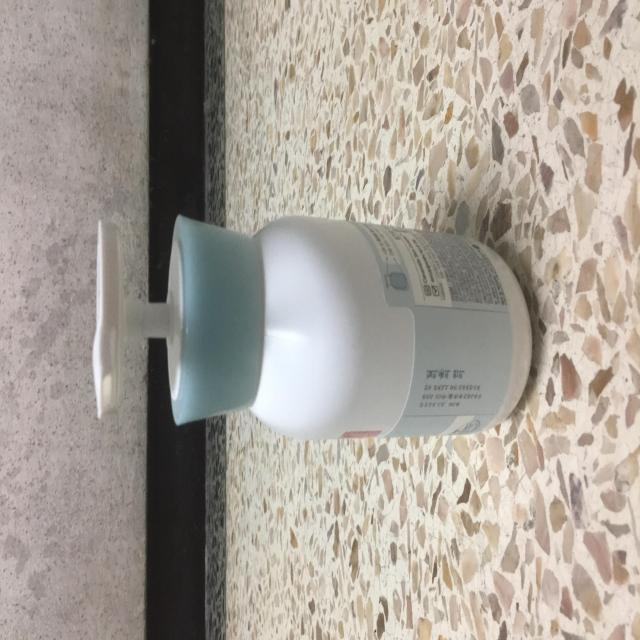bottle: (134, 54, 454, 535)
